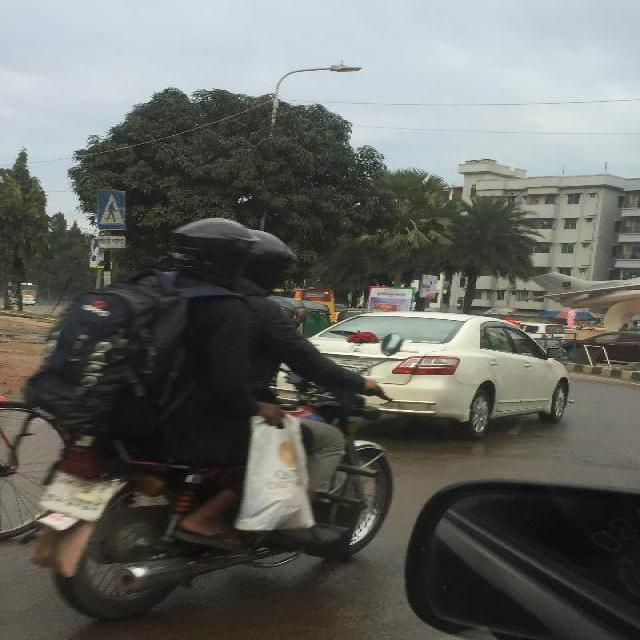bike: (29, 375, 394, 623)
vehicle: (274, 311, 573, 441)
